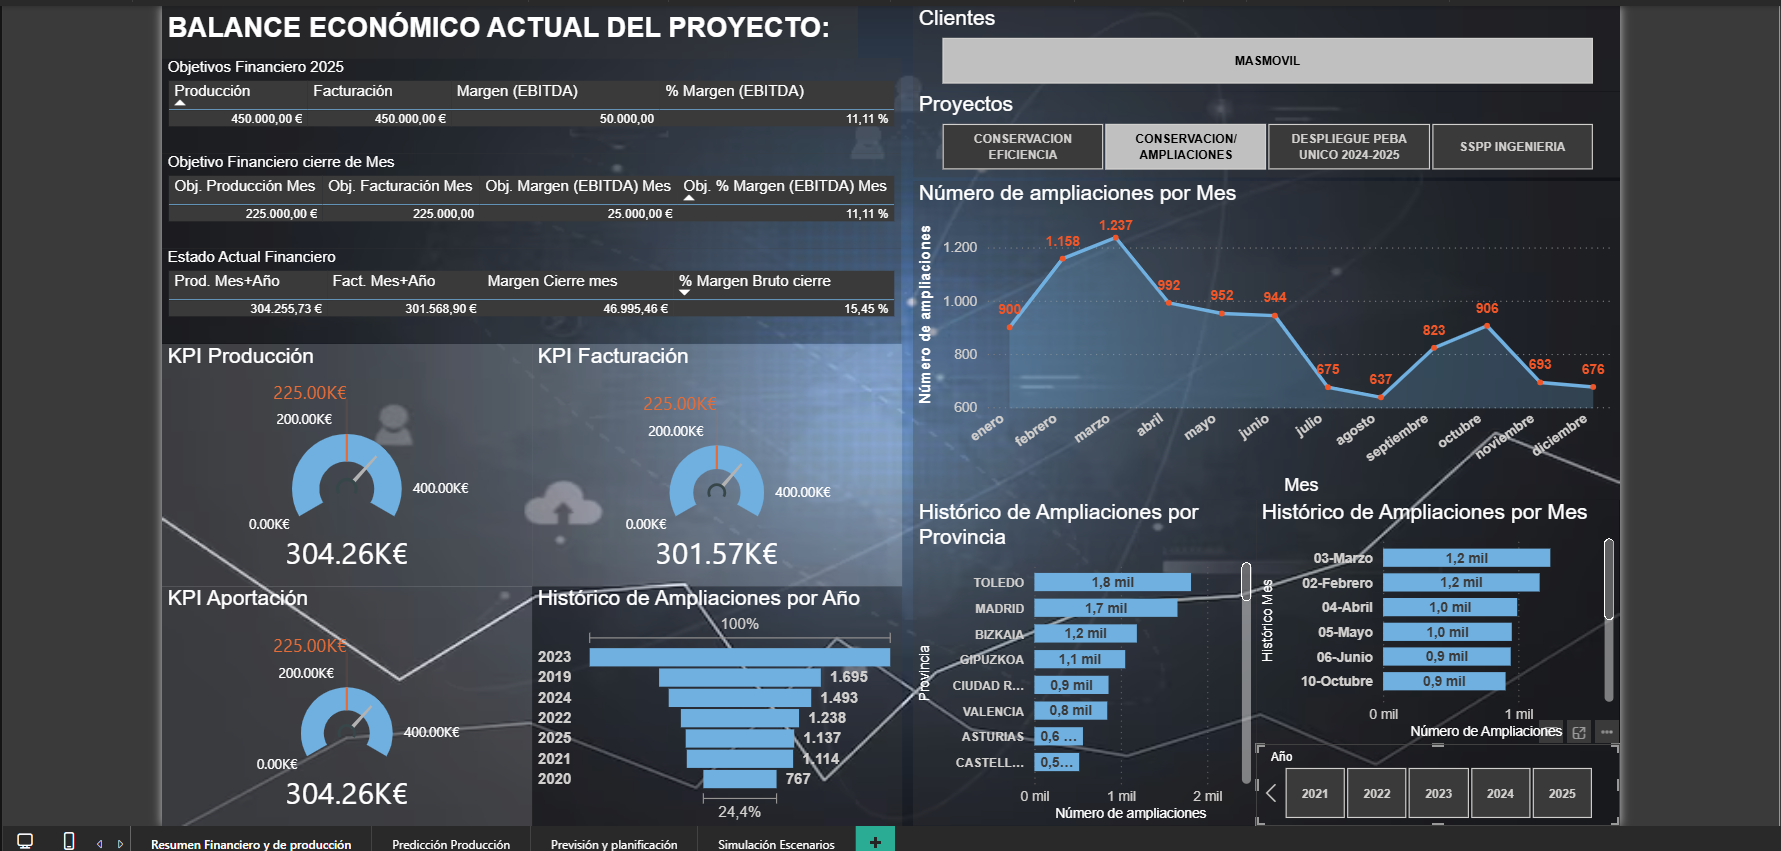

What the dashboard file says about the page in this screenshot:
{"tool":"powerbi","page":{"name":"Balance económico Actual","canvas":[1280,720],"ordinal":2},"visuals":[{"type":"slicer","fields":{"Values":["Costes Actual.CLIENTE","Costes Actual.PROYECTO"]},"box":[0,123.8,294.6,313.9],"z":0},{"type":"card","title":"Producción 2025","fields":{"Values":["Sum(Resumen Objetivos.Prev Producción )"]},"box":[371.6,40.9,213,98.2],"z":1000},{"type":"card","title":"Facturación 2025","fields":{"Values":["Sum(Resumen Objetivos.Prev Facturación)"]},"box":[584.6,40.9,213,98.2],"z":2000},{"type":"card","title":"Margen Bruto 2025","fields":{"Values":["Sum(Resumen Objetivos.Prev Aportación)"]},"box":[797.6,40.9,213,98.2],"z":3000},{"type":"card","title":"% Margen Bruto 2025","fields":{"Values":["Sum(Resumen Objetivos.Prev % Aportación)"]},"box":[1010.6,40.9,213,98.2],"z":4000},{"type":"textbox","box":[371.6,0,313.2,38.9],"z":5000},{"type":"card","title":"Producción Cierre Mayo","fields":{"Values":["Sum(Costes Actual.Prod. Mes+Año)"]},"box":[369.4,323.4,213.5,100.4],"z":6000},{"type":"card","title":"Facturación Cierre Mayo","fields":{"Values":["Sum(Costes Actual.Fact. Mes+Año)"]},"box":[582.9,323.4,213.5,100.4],"z":7000},{"type":"card","title":"Margen Bruto Cierre Mayo","fields":{"Values":["Medidas.Margen Cierre mes"]},"box":[795.3,323.4,213.5,100.4],"z":8000},{"type":"card","title":"Margen Bruto Cierre Mayo","fields":{"Values":["Medidas.% Margen Bruto cierre"]},"box":[1007.8,323.4,213.5,100.4],"z":9000},{"type":"textbox","box":[371.5,280.7,399.3,40.6],"z":10000},{"type":"card","title":"Facturación mes en curso","fields":{"Values":["Medidas.Obj. Facturación Mes"]},"box":[580.8,186.8,212.4,98.2],"z":11000},{"type":"card","title":"Producción mes en curso","fields":{"Values":["Medidas.Obj. Producción  Mes"]},"box":[371.5,186.8,209.2,98.2],"z":12000},{"type":"card","title":"Aportación mes en curso","fields":{"Values":["Medidas.Obj. Aportación  Mes"]},"box":[794.3,186.8,212.4,98.2],"z":13000},{"type":"card","title":"%  Aportación mes en curso","fields":{"Values":["Medidas.Obj. % Producción  Mes"]},"box":[1006.7,186.8,212.4,98.2],"z":14000},{"type":"textbox","box":[369.4,127,459,40.6],"z":15000},{"type":"Tachometer1474636471549","title":"KPI Facturación","fields":{"EndValue":["Sum(Resumen Objetivos.Prev Facturación)"],"TargetValue":["Medidas.Obj. Facturación Mes"],"Y":["Sum(Costes Actual.Fact. Mes+Año)"]},"box":[541.3,444.1,341.6,275.4],"z":16000},{"type":"Tachometer1474636471549","title":"KPI Producción","fields":{"Y":["Sum(Costes Actual.Prod. Mes+Año)"],"EndValue":["Sum(Resumen Objetivos.Prev Producción )"],"TargetValue":["Medidas.Obj. Producción  Mes"]},"box":[186.8,444.1,341.6,275.4],"z":17000},{"type":"Tachometer1474636471549","title":"KPI Aportación","fields":{"Y":["Sum(Costes Actual.Prod. Mes+Año)"],"EndValue":["Sum(Resumen Objetivos.Prev Producción )"],"TargetValue":["Medidas.Obj. Producción  Mes"]},"box":[882.9,444.1,341.6,275.4],"z":17001},{"type":"textbox","box":[25.6,9.6,301.1,87.5],"z":17002}]}

Visuals, with their boxes on the page's 1280x720 design canvas (x1, y1, x2, y2). These are canvas units, not pixel positions in the 1781x851 screenshot, which may show the page scaled, cropped or inside an application window:
slicer - Costes Actual.CLIENTE x Costes Actual.PROYECTO: 0,124,295,438
"Producción 2025" card: 372,41,585,139
"Facturación 2025" card: 585,41,798,139
"Margen Bruto 2025" card: 798,41,1011,139
"% Margen Bruto 2025" card: 1011,41,1224,139
textbox: 372,0,685,39
"Producción Cierre Mayo" card: 369,323,583,424
"Facturación Cierre Mayo" card: 583,323,796,424
"Margen Bruto Cierre Mayo" card: 795,323,1009,424
"Margen Bruto Cierre Mayo" card: 1008,323,1221,424
textbox: 372,281,771,321
"Facturación mes en curso" card: 581,187,793,285
"Producción mes en curso" card: 372,187,581,285
"Aportación mes en curso" card: 794,187,1007,285
"%  Aportación mes en curso" card: 1007,187,1219,285
textbox: 369,127,828,168
"KPI Facturación" Tachometer1474636471549: 541,444,883,720
"KPI Producción" Tachometer1474636471549: 187,444,528,720
"KPI Aportación" Tachometer1474636471549: 883,444,1224,720
textbox: 26,10,327,97
